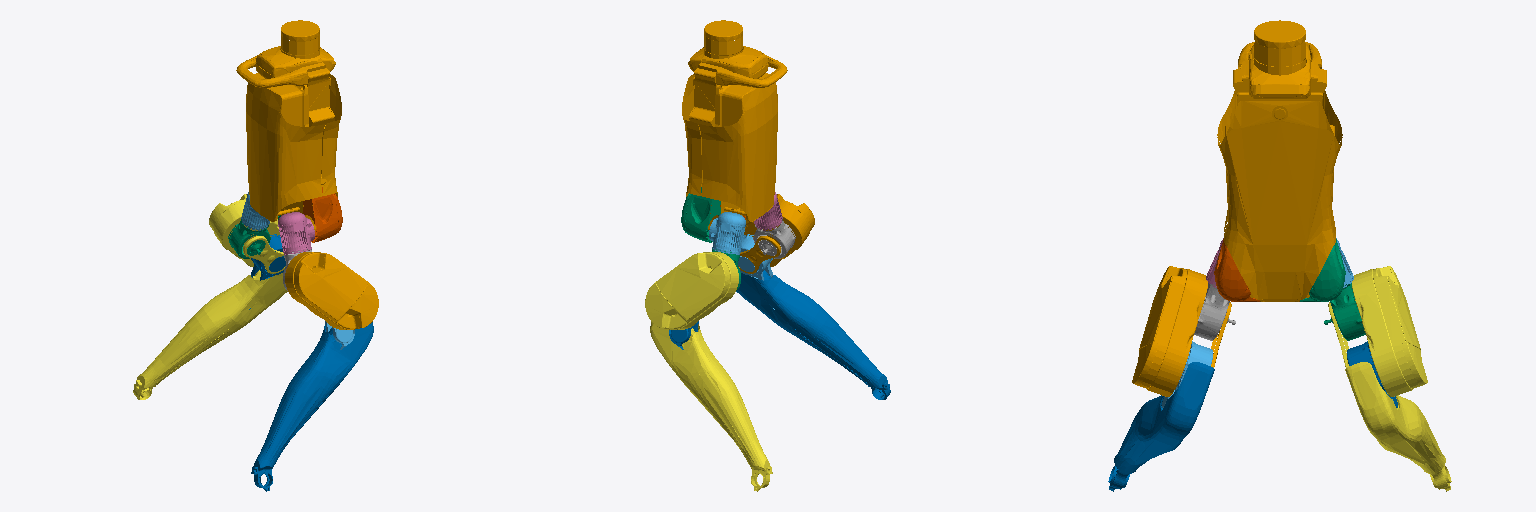
The robot description file, URDF, robot "digit":
<?xml version="1.0" encoding="utf-8"?>
<robot name="digit">
  <link name="torso">
    <inertial>
      <origin rpy="0 0 0" xyz="0.001637 0.0002 0.259547"/>
      <mass value="15.028392"/>
      <inertia ixx="0.376284" ixy="-8.8e-05" ixz="0.008378" iyy="0.342655" iyz="6.7e-05" izz="0.100648"/>
    </inertial>
    <visual>
      <origin rpy="0 0 0" xyz="0 0 0"/>
      <geometry>
        <mesh filename="torso.obj"/>
      </geometry>
    </visual>
    <collision>
      <origin rpy="0 0 0" xyz="0 0 0"/>
      <geometry>
        <mesh filename="torso.obj"/>
      </geometry>
    </collision>
  </link>
  <link name="left_hip_roll">
    <inertial>
      <origin rpy="0 0 0" xyz="-0.001967 0.000244 0.031435"/>
      <mass value="0.915088"/>
      <inertia ixx="0.001017" ixy="-3e-06" ixz="1.3e-05" iyy="0.001148" iyz="-4e-06" izz="0.000766"/>
    </inertial>
    <visual>
      <origin rpy="0 0 0" xyz="0 0 0"/>
      <geometry>
        <mesh filename="hip-yaw-housing.obj"/>
      </geometry>
    </visual>
    <collision>
      <origin rpy="0 0 0" xyz="0 0 0"/>
      <geometry>
        <mesh filename="hip-yaw-housing.obj"/>
      </geometry>
    </collision>
  </link>
  <link name="left_hip_yaw">
    <inertial>
      <origin rpy="0 0 0" xyz="1e-05 -0.001945 0.042033"/>
      <mass value="0.818753"/>
      <inertia ixx="0.001627" ixy="-1e-06" ixz="2e-06" iyy="0.001929" iyz="5.3e-05" izz="0.00077"/>
    </inertial>
    <visual>
      <origin rpy="0 0 0" xyz="0 0 0"/>
      <geometry>
        <mesh filename="hip-pitch-housing.obj"/>
      </geometry>
    </visual>
    <collision>
      <origin rpy="0 0 0" xyz="0 0 0"/>
      <geometry>
        <mesh filename="hip-pitch-housing.obj"/>
      </geometry>
    </collision>
  </link>
  <link name="left_hip_pitch">
    <inertial>
      <origin rpy="0 0 0" xyz="0.060537 0.000521 -0.038857"/>
      <mass value="6.244279"/>
      <inertia ixx="0.011533" ixy="-0.000171" ixz="0.000148" iyy="0.033345" iyz="0.000178" izz="0.033958"/>
    </inertial>
    <visual>
      <origin rpy="0 0 0" xyz="0 0 0"/>
      <geometry>
        <mesh filename="hip-pitch.obj"/>
      </geometry>
    </visual>
    <collision>
      <origin rpy="0 0 0" xyz="0 0 0"/>
      <geometry>
        <mesh filename="hip-pitch.obj"/>
      </geometry>
    </collision>
  </link>
  <link name="left_knee">
    <inertial>
      <origin rpy="0 0 0" xyz="0.045641 0.042154 0.001657"/>
      <mass value="1.227077"/>
      <inertia ixx="0.002643" ixy="-0.001832" ixz="6.6e-05" iyy="0.005098" iyz="4.5e-05" izz="0.007019"/>
    </inertial>
    <visual>
      <origin rpy="0 0 0" xyz="0 0 0"/>
      <geometry>
        <mesh filename="knee.obj"/>
      </geometry>
    </visual>
    <collision>
      <origin rpy="0 0 0" xyz="0 0 0"/>
      <geometry>
        <mesh filename="knee.obj"/>
      </geometry>
    </collision>
  </link>
  
  <link name="left_waist_cap">
    <inertial>
      <origin rpy="0 0 0" xyz="9e-06 -0.003158 0.023405"/>
      <mass value="0.535396"/>
      <inertia ixx="0.000704" ixy="1.4e-05" ixz="1.2e-05" iyy="0.00075" iyz="3.5e-05" izz="0.000298"/>
    </inertial>
    <visual>
      <origin rpy="0 0 0" xyz="0 0 0"/>
      <geometry>
        <mesh filename="shoulder-roll-housing.obj"/>
      </geometry>
    </visual>
    <collision>
      <origin rpy="0 0 0" xyz="0 0 0"/>
      <geometry>
        <mesh filename="shoulder-roll-housing.obj"/>
      </geometry>
    </collision>
  </link>
  
  <link name="right_hip_roll">
    <inertial>
      <origin rpy="0 0 0" xyz="-0.001967 -0.000244 0.031435"/>
      <mass value="0.915088"/>
      <inertia ixx="0.001017" ixy="3e-06" ixz="1.3e-05" iyy="0.001148" iyz="4e-06" izz="0.000766"/>
    </inertial>
    <visual>
      <origin rpy="0 0 0" xyz="0 0 0"/>
      <geometry>
        <mesh filename="hip-yaw-housing.obj" scale="1 -1 1"/>
      </geometry>
    </visual>
    <collision>
      <origin rpy="0 0 0" xyz="0 0 0"/>
      <geometry>
        <mesh filename="hip-yaw-housing.obj" scale="1 -1 1"/>
      </geometry>
    </collision>
  </link>
  <link name="right_hip_yaw">
    <inertial>
      <origin rpy="0 0 0" xyz="1e-05 0.001945 0.042033"/>
      <mass value="0.818753"/>
      <inertia ixx="0.001627" ixy="1e-06" ixz="2e-06" iyy="0.001929" iyz="-5.3e-05" izz="0.00077"/>
    </inertial>
    <visual>
      <origin rpy="0 0 0" xyz="0 0 0"/>
      <geometry>
        <mesh filename="hip-pitch-housing.obj" scale="1 -1 1"/>
      </geometry>
    </visual>
    <collision>
      <origin rpy="0 0 0" xyz="0 0 0"/>
      <geometry>
        <mesh filename="hip-pitch-housing.obj" scale="1 -1 1"/>
      </geometry>
    </collision>
  </link>
  <link name="right_hip_pitch">
    <inertial>
      <origin rpy="0 0 0" xyz="0.060537 -0.000521 -0.038857"/>
      <mass value="6.244279"/>
      <inertia ixx="0.011533" ixy="0.000171" ixz="0.000148" iyy="0.033345" iyz="-0.000178" izz="0.033958"/>
    </inertial>
    <visual>
      <origin rpy="0 0 0" xyz="0 0 0"/>
      <geometry>
        <mesh filename="hip-pitch.obj" scale="1 -1 1"/>
      </geometry>
    </visual>
    <collision>
      <origin rpy="0 0 0" xyz="0 0 0"/>
      <geometry>
        <mesh filename="hip-pitch.obj" scale="1 -1 1"/>
      </geometry>
    </collision>
  </link>
  <link name="right_knee">
    <inertial>
      <origin rpy="0 0 0" xyz="0.045641 -0.042154 0.001657"/>
      <mass value="1.227077"/>
      <inertia ixx="0.002643" ixy="0.001832" ixz="6.6e-05" iyy="0.005098" iyz="-4.5e-05" izz="0.007019"/>
    </inertial>
    <visual>
      <origin rpy="0 0 0" xyz="0 0 0"/>
      <geometry>
        <mesh filename="knee.obj" scale="1 -1 1"/>
      </geometry>
    </visual>
    <collision>
      <origin rpy="0 0 0" xyz="0 0 0"/>
      <geometry>
        <mesh filename="knee.obj" scale="1 -1 1"/>
      </geometry>
    </collision>
  </link>
  
  <link name="right_waist_cap">
    <inertial>
      <origin rpy="0 0 0" xyz="9e-06 0.003158 0.023405"/>
      <mass value="0.535396"/>
      <inertia ixx="0.000704" ixy="-1.4e-05" ixz="1.2e-05" iyy="0.00075" iyz="-3.5e-05" izz="0.000298"/>
    </inertial>
    <visual>
      <origin rpy="0 0 0" xyz="0 0 0"/>
      <geometry>
        <mesh filename="shoulder-roll-housing.obj" scale="1 -1 1"/>
      </geometry>
    </visual>
    <collision>
      <origin rpy="0 0 0" xyz="0 0 0"/>
      <geometry>
        <mesh filename="shoulder-roll-housing.obj" scale="1 -1 1"/>
      </geometry>
    </collision>
  </link>
  <link name="left_shin">
    <inertial>
      <origin rpy="0 0 0" xyz="0.174265 0.010265 0.00107"/>
      <mass value="0.895793"/>
      <inertia ixx="0.001128" ixy="0.001098" ixz="0.000196" iyy="0.022492" iyz="-3e-06" izz="0.022793"/>
    </inertial>
    <visual>
      <origin rpy="0 0 0" xyz="0 0 0"/>
      <geometry>
        <mesh filename="shin.obj"/>
      </geometry>
    </visual>
    <collision>
      <origin rpy="0 0 0" xyz="0 0 0"/>
      <geometry>
        <mesh filename="shin.obj"/>
      </geometry>
    </collision>
  </link>
    <link name="right_shin">
    <inertial>
      <origin rpy="0 0 0" xyz="0.174265 -0.010265 0.00107"/>
      <mass value="0.895793"/>
      <inertia ixx="0.001128" ixy="-0.001098" ixz="0.000196" iyy="0.022492" iyz="3e-06" izz="0.022793"/>
    </inertial>
    <visual>
      <origin rpy="0 0 0" xyz="0 0 0"/>
      <geometry>
        <mesh filename="shin.obj" scale="1 -1 1"/>
      </geometry>
    </visual>
    <collision>
      <origin rpy="0 0 0" xyz="0 0 0"/>
      <geometry>
        <mesh filename="shin.obj" scale="1 -1 1"/>
      </geometry>
    </collision>
  </link>
  <joint name="left-hip-roll" type="continuous">
    <origin rpy="1.57079632679 -1.1955506 -1.57079632679" xyz="-0.001 0.091 0"/>
    <axis xyz="0 0 1"/>
    <parent link="torso"/>
    <child link="left_hip_roll"/>
    <limit effort="1.4" lower="-1.0472" upper="1.0472" velocity="12.15"/>
  </joint>
  <joint name="left-hip-yaw" type="fixed">
    <origin rpy="0 -1.57079632679 0" xyz="-0.0505 0 0.044"/>
    <axis xyz="0 0 1"/>
    <parent link="left_hip_roll"/>
    <child link="left_hip_yaw"/>
    <limit effort="1.4" lower="-0.698132" upper="0.698132" velocity="12.15"/>
  </joint>
  <joint name="left-hip-pitch" type="continuous">
    <origin rpy="-1.57079632679 -0.785398163397 3.14159265359" xyz="0 0.004 0.068"/>
    <axis xyz="0 0 -1"/>
    <parent link="left_hip_yaw"/>
    <child link="left_hip_pitch"/>
    <limit effort="12.5" lower="-1.0472" upper="1.57079632679" velocity="8.5"/>
  </joint>
  <joint name="left-knee" type="continuous">
    <origin rpy="0 0 -1.57079632679" xyz="0.12 0 0.0045"/>
    <axis xyz="0 0 1"/>
    <parent link="left_hip_pitch"/>
    <child link="left_knee"/>
    <limit effort="12.5" lower="-1.2392" upper="0.8727" velocity="8.5085"/>
  </joint>
  
  <joint name="right-hip-roll" type="continuous">
    <origin rpy="-1.57079632679 -1.1955506 1.57079632679" xyz="-0.001 -0.091 0"/>
    <axis xyz="0 0 1"/>
    <parent link="torso"/>
    <child link="right_hip_roll"/>
    <limit effort="1.4" lower="-1.0472" upper="1.0472" velocity="12.15"/>
  </joint>
  <joint name="right-hip-yaw" type="fixed">
    <origin rpy="0 -1.57079632679 0" xyz="-0.0505 0 0.044"/>
    <axis xyz="0 0 1"/>
    <parent link="right_hip_roll"/>
    <child link="right_hip_yaw"/>
    <limit effort="1.4" lower="-0.698132" upper="0.698132" velocity="12.15"/>
  </joint>
  <joint name="right-hip-pitch" type="continuous">
    <origin rpy="1.57079632679 -0.785398163397 -3.14159265359" xyz="0 -0.004 0.068"/>
    <axis xyz="0 0 -1"/>
    <parent link="right_hip_yaw"/>
    <child link="right_hip_pitch"/>
    <limit effort="12.5" lower="-1.57079632679" upper="1.0472" velocity="8.5"/>
  </joint>
  <joint name="right-knee" type="continuous">
    <origin rpy="0 0 1.57079632679" xyz="0.12 0 0.0045"/>
    <axis xyz="0 0 1"/>
    <parent link="right_hip_pitch"/>
    <child link="right_knee"/>
    <limit effort="12.5" lower="-0.8727" upper="1.2392" velocity="8.5085"/>
  </joint>
  <joint name="left-shin" type="fixed">
    <origin rpy="0 0 0" xyz="0.060677 0.047406 0"/>
    <axis xyz="0 0 1"/>
    <parent link="left_knee"/>
    <child link="left_shin"/>
    <limit effort="0" lower="-0.35" upper="0.35" velocity="10"/>
  </joint>
  <joint name="right-shin" type="fixed">
    <origin rpy="0 0 0" xyz="0.060677 -0.047406 0"/>
    <axis xyz="0 0 1"/>
    <parent link="right_knee"/>
    <child link="right_shin"/>
    <limit effort="0" lower="-0.35" upper="0.35" velocity="10"/>
  </joint>

  <joint name="waist_cap_joint_right" type="fixed">
    <origin rpy="1.57079632679 1.57 -1.57079632679" xyz="-0.001 -0.09 0.0"/>
    <axis xyz="0 0 1"/>
    <parent link="torso"/>
    <child link="left_waist_cap"/>
    <limit effort="1.4" lower="-1.309" upper="1.309" velocity="12.5"/>
  </joint>

  <joint name="waist_cap_joint_left" type="fixed">
    <origin rpy="-1.57079632679 1.57 1.57079632679" xyz="-0.001 0.09 0.0"/>
    <axis xyz="0 0 1"/>
    <parent link="torso"/>
    <child link="right_waist_cap"/>
    <limit effort="1.4" lower="-1.309" upper="1.309" velocity="12.5"/>
  </joint>

  
</robot>

--- Facts derived from the render (not from the file) ---
3 views of the same robot in one strip: view 1: azimuth 30°, elevation 25°; view 2: azimuth 150°, elevation 25°; view 3: azimuth 270°, elevation 25° (orthographic).
Model digit with 13 links and 12 joints (6 continuous, 6 fixed), rooted at torso, posed every joint at zero.
Visible links, largest first — view 1: torso, right_shin, left_shin, right_hip_pitch, left_hip_pitch, left_waist_cap, right_hip_roll, left_hip_yaw, left_knee; view 2: torso, left_shin, right_shin, left_hip_pitch, right_hip_pitch, right_waist_cap, left_hip_roll, right_hip_yaw, right_knee; view 3: torso, left_hip_pitch, right_hip_pitch, left_shin, right_shin, left_waist_cap, right_waist_cap, left_hip_yaw, right_hip_yaw, left_knee, right_knee.
Boxes of the visible links, left/top/right/bottom form: torso: left=236, top=20, right=341, bottom=230; right_shin: left=251, top=322, right=373, bottom=491; left_shin: left=133, top=270, right=287, bottom=399; right_hip_pitch: left=285, top=252, right=378, bottom=329; left_hip_pitch: left=209, top=194, right=285, bottom=273; left_waist_cap: left=303, top=187, right=342, bottom=242; right_hip_roll: left=278, top=212, right=314, bottom=254; left_hip_yaw: left=228, top=219, right=270, bottom=258; left_knee: left=249, top=234, right=285, bottom=309; torso: left=682, top=20, right=787, bottom=229; left_shin: left=650, top=322, right=772, bottom=491; right_shin: left=736, top=270, right=890, bottom=399; left_hip_pitch: left=645, top=252, right=738, bottom=329; right_hip_pitch: left=738, top=194, right=814, bottom=273; right_waist_cap: left=681, top=187, right=720, bottom=242; left_hip_roll: left=709, top=212, right=745, bottom=254; right_hip_yaw: left=753, top=219, right=795, bottom=258; right_knee: left=738, top=234, right=774, bottom=309; torso: left=1217, top=20, right=1342, bottom=301; left_hip_pitch: left=1328, top=266, right=1427, bottom=396; right_hip_pitch: left=1132, top=266, right=1231, bottom=396; left_shin: left=1345, top=362, right=1451, bottom=491; right_shin: left=1108, top=362, right=1214, bottom=491; left_waist_cap: left=1214, top=239, right=1259, bottom=301; right_waist_cap: left=1300, top=239, right=1345, bottom=301; left_hip_yaw: left=1324, top=283, right=1365, bottom=340; right_hip_yaw: left=1194, top=283, right=1235, bottom=340; left_knee: left=1347, top=341, right=1397, bottom=407; right_knee: left=1162, top=341, right=1212, bottom=407.
Bounding box of the posed robot: 0.4145 × 0.6641 × 1.11 m (x, y, z).
Meshes: 7 distinct files referenced, 13 mesh visuals loaded (7 OBJ).